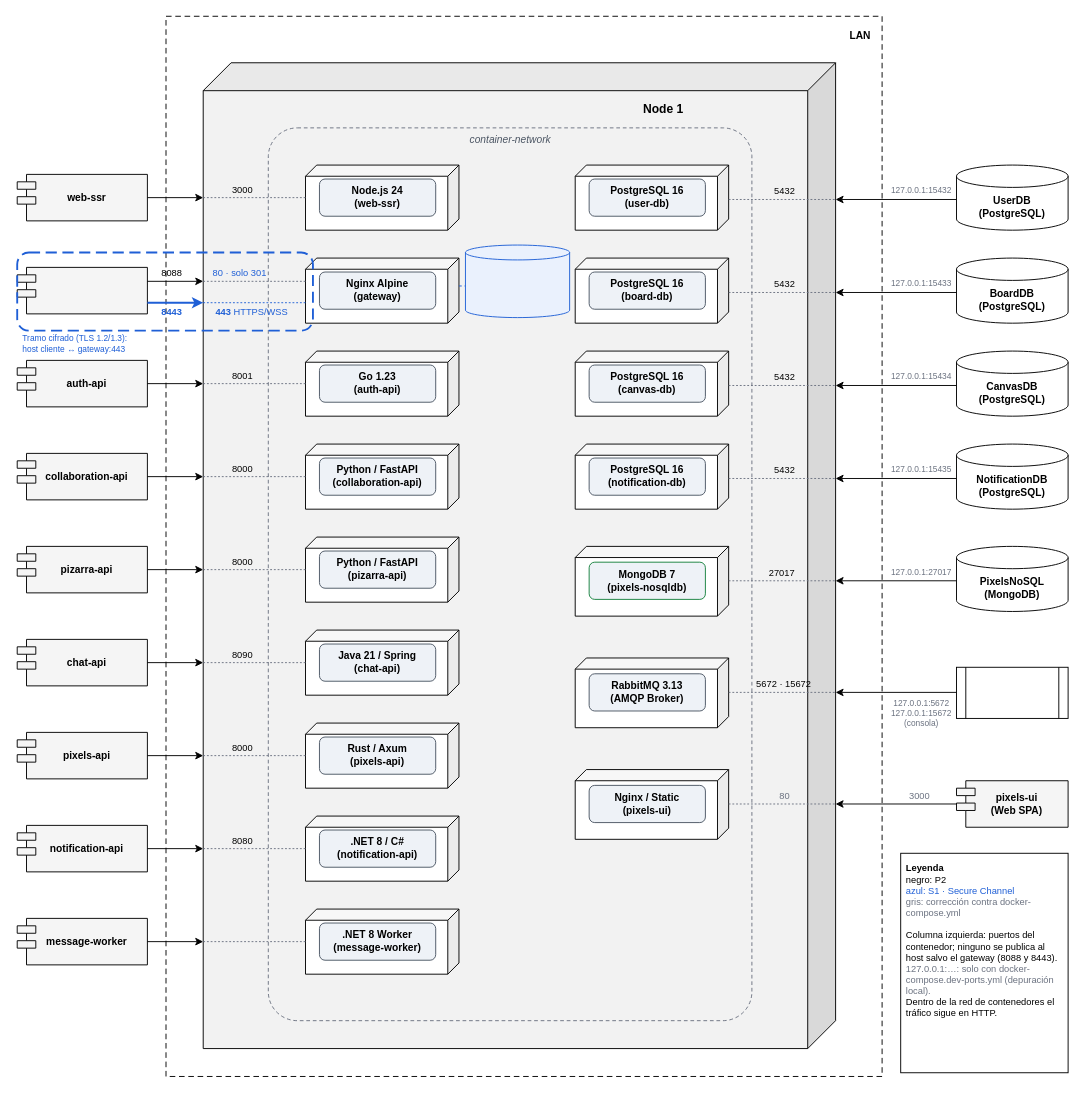
Some shapes in this 1084 by 1093 pixel diagram are drawn without their labels. The centre of each missing label's shape, as x and y in pixels:
"gateway" belongs at [81,290].
"gateway/certs → /etc/nginx/certs certificado + llave (no versionado)" belongs at [517,281].
"RabbitMQ (Broker AMQP)" belongs at [1012,692].
